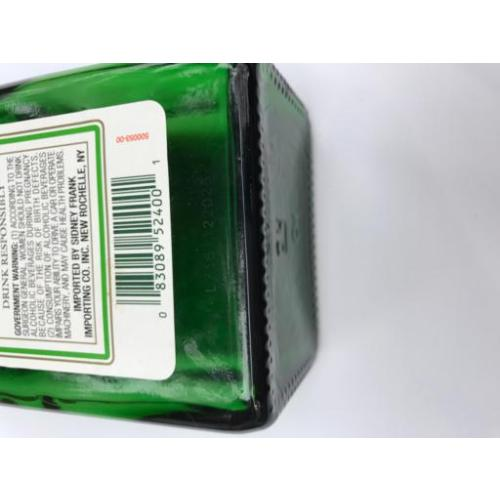glass: (0, 66, 311, 431)
